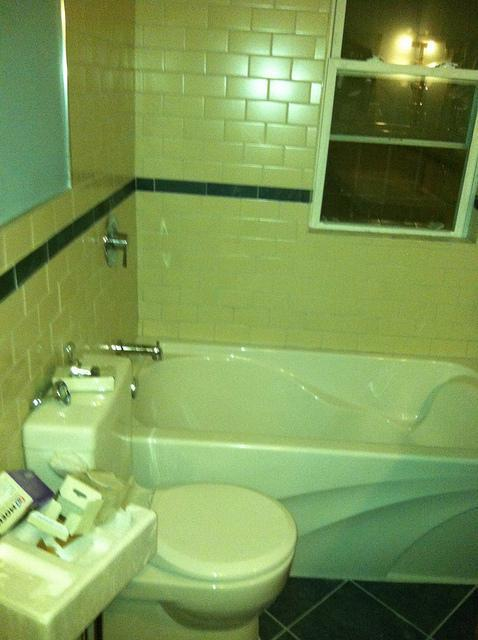Sanitario: (25, 340, 299, 636)
